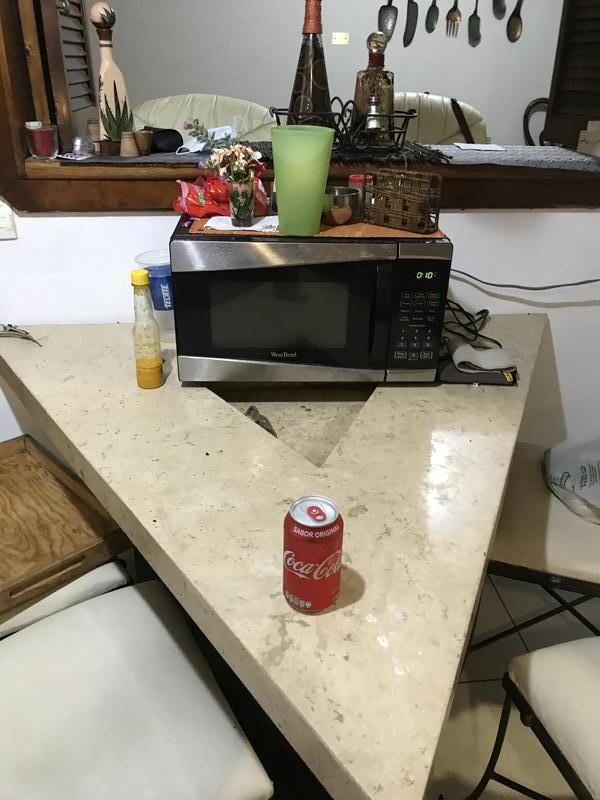coca_cola: (281, 494, 342, 615)
